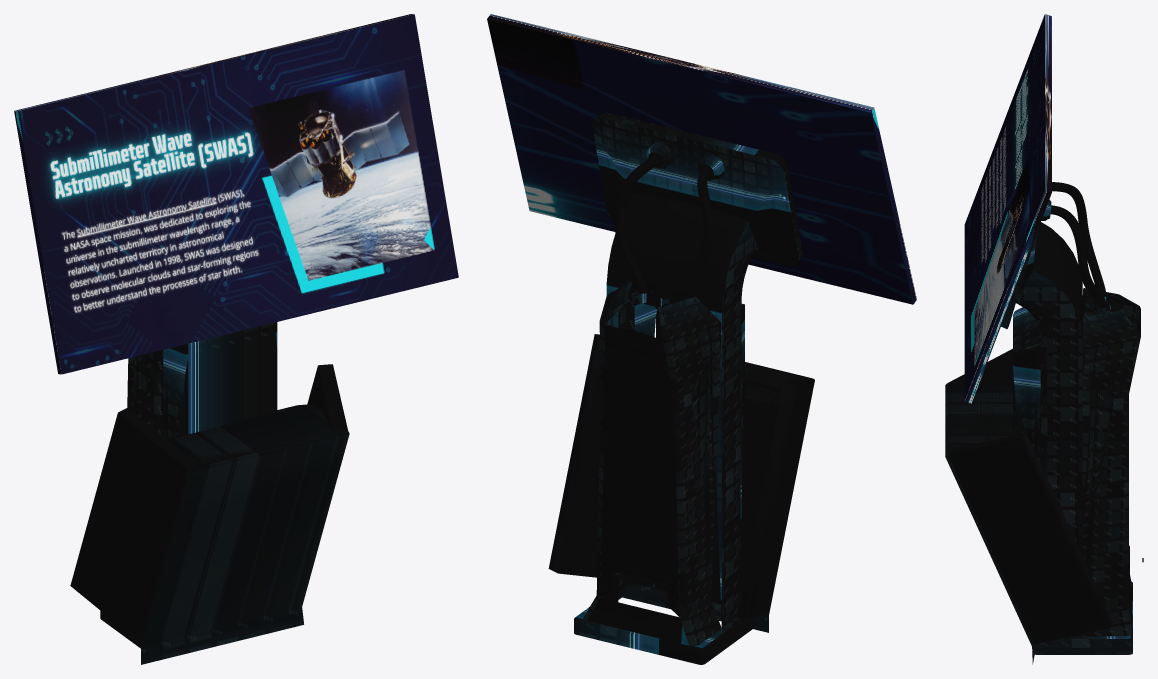
File: sublim.glb
3 renders of one model, left to right at view 1: azimuth 30°, elevation 25°; view 2: azimuth 150°, elevation 25°; view 3: azimuth 270°, elevation 25°, orthographic. The views are drawn at different scales.
Parts seen in each view (by area): view 1: Cube, Body; view 2: Body, Cube; view 3: Body, Cube.
Part boxes in pixels (x1,y1,x2,y2): Cube: [14, 14, 458, 374]; Body: [70, 322, 349, 664]; Body: [548, 112, 814, 664]; Cube: [487, 14, 916, 304]; Body: [945, 182, 1143, 664]; Cube: [964, 14, 1051, 403].
Bounding box in the file's own units: 0.9994 × 1.39 × 0.4742.
3 materials, 3 textured.
